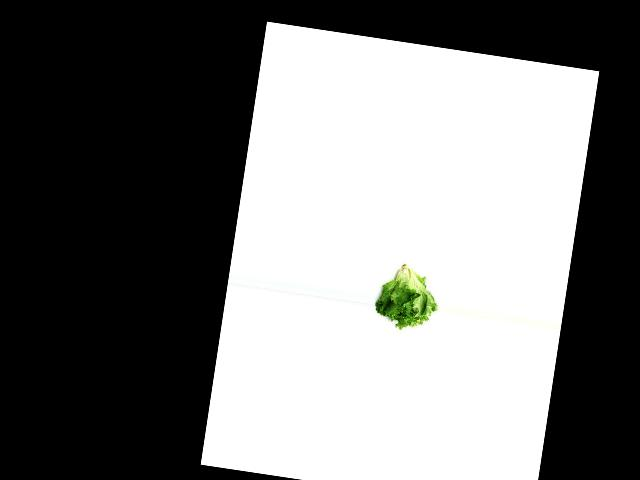lettuce: (371, 259, 444, 332)
